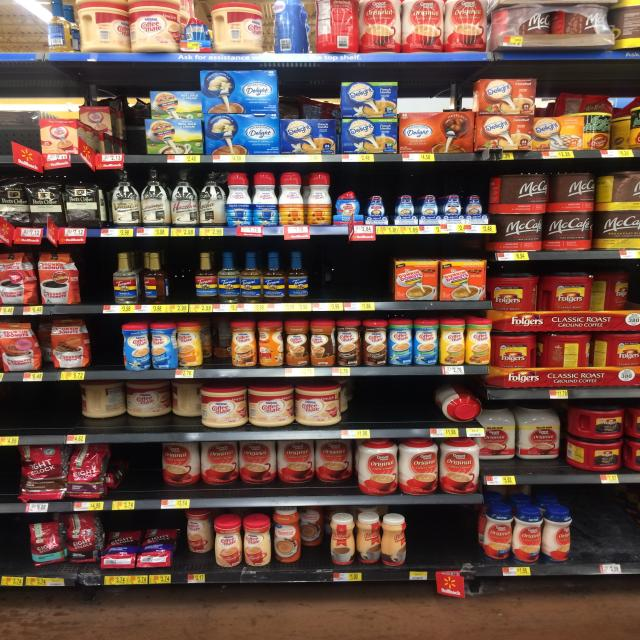void: (581, 486, 639, 567), (411, 508, 484, 568), (344, 379, 432, 428), (313, 247, 390, 301), (2, 383, 74, 438), (0, 75, 37, 154), (109, 444, 157, 496)
